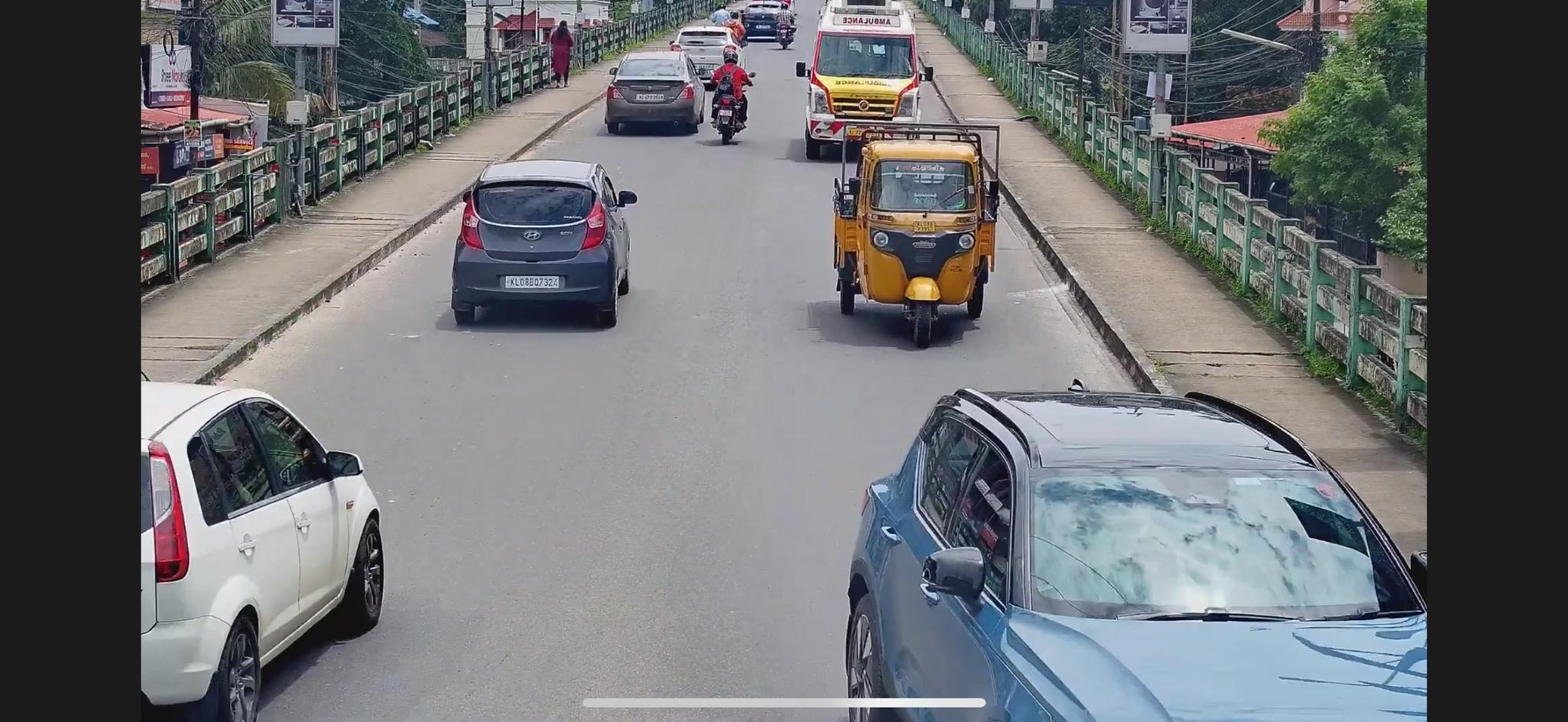ambulance: (798, 1, 927, 147)
